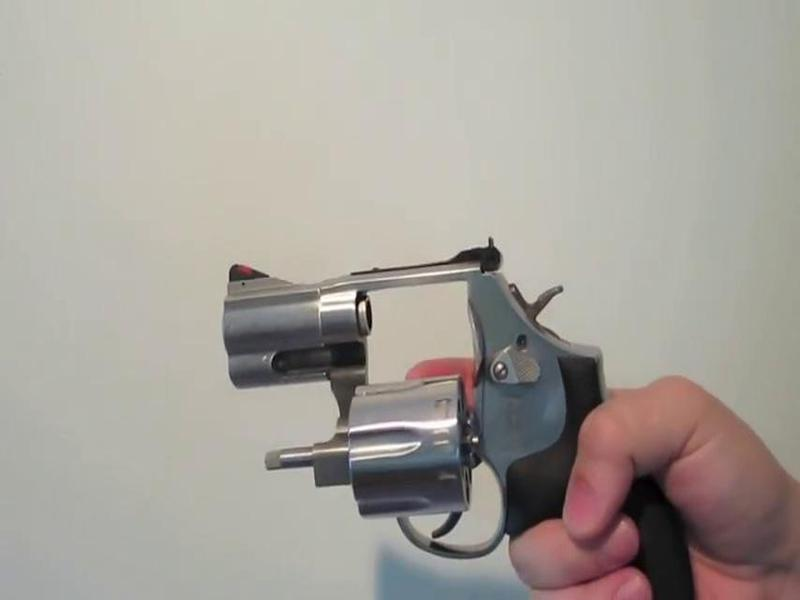Revolver: (229, 214, 708, 586)
